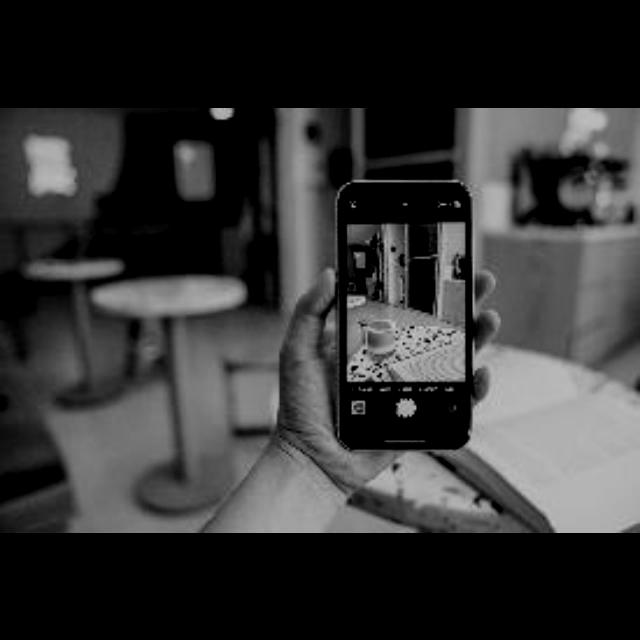fake: (340, 177, 472, 440)
